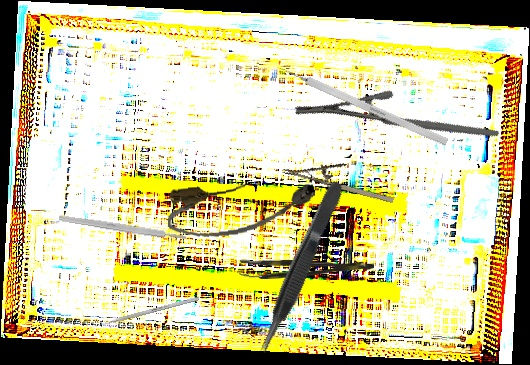Cannula: (164, 174, 319, 243)
Hook Surgical: (272, 61, 449, 147)
Needle Holder: (290, 45, 501, 200), (281, 146, 400, 207)
Pusher: (88, 296, 200, 330)
Scalpel Handle: (58, 213, 187, 243)
Tissue Forceps: (250, 178, 351, 357), (239, 259, 374, 281)
